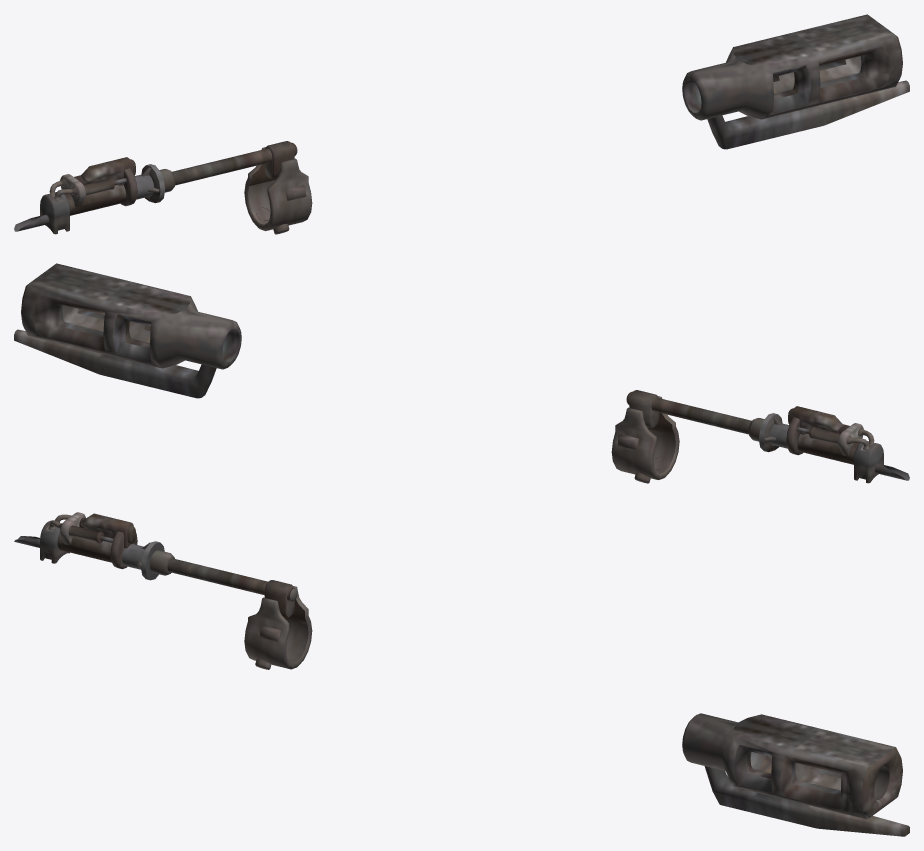
The model's file is HeavyWeapons_Vladof_Barrel_Strack_Acc_3.obj.
3 renders of one model, top to bottom at view 1: azimuth 30°, elevation 25°; view 2: azimuth 150°, elevation 25°; view 3: azimuth 330°, elevation 25°, orthographic.
Visible parts, largest first — view 1: Barrel_Strak_acc_1_break_SK_HW_VLA.045, Barrel_Strak_acc_1_break_melee_SK_HW_VLA.053, Barrel_Strak_acc_1_compensator_chassis_SK_HW_VLA.047, Barrel_Strak_acc_1_compensator_clamp_SK_HW_VLA.048, Barrel_Strak_acc_1_compensator_rod_SK_HW_VLA.054, Barrel_Strak_acc_1_compensator_feeder_SK_HW_VLA.051, Barrel_Strak_acc_1_compensator_rod_end_SK_HW_VLA.050; view 2: Barrel_Strak_acc_1_break_SK_HW_VLA.045, Barrel_Strak_acc_1_break_melee_SK_HW_VLA.053, Barrel_Strak_acc_1_compensator_chassis_SK_HW_VLA.047, Barrel_Strak_acc_1_compensator_clamp_SK_HW_VLA.048, Barrel_Strak_acc_1_compensator_rod_SK_HW_VLA.054, Barrel_Strak_acc_1_compensator_feeder_SK_HW_VLA.051, Barrel_Strak_acc_1_compensator_rod_end_SK_HW_VLA.050; view 3: Barrel_Strak_acc_1_break_SK_HW_VLA.045, Barrel_Strak_acc_1_break_melee_SK_HW_VLA.053, Barrel_Strak_acc_1_compensator_chassis_SK_HW_VLA.047, Barrel_Strak_acc_1_compensator_clamp_SK_HW_VLA.048, Barrel_Strak_acc_1_compensator_rod_SK_HW_VLA.054, Barrel_Strak_acc_1_compensator_feeder_SK_HW_VLA.051, Barrel_Strak_acc_1_compensator_rod_end_SK_HW_VLA.050.
Boxes of the visible parts, x1,y1,x2,y2 form: Barrel_Strak_acc_1_break_SK_HW_VLA.045: [682, 14, 902, 120]; Barrel_Strak_acc_1_break_melee_SK_HW_VLA.053: [707, 80, 909, 149]; Barrel_Strak_acc_1_compensator_chassis_SK_HW_VLA.047: [60, 157, 175, 215]; Barrel_Strak_acc_1_compensator_clamp_SK_HW_VLA.048: [244, 147, 312, 231]; Barrel_Strak_acc_1_compensator_rod_SK_HW_VLA.054: [172, 142, 297, 185]; Barrel_Strak_acc_1_compensator_feeder_SK_HW_VLA.051: [40, 192, 69, 234]; Barrel_Strak_acc_1_compensator_rod_end_SK_HW_VLA.050: [264, 141, 294, 179]; Barrel_Strak_acc_1_break_SK_HW_VLA.045: [21, 263, 241, 369]; Barrel_Strak_acc_1_break_melee_SK_HW_VLA.053: [14, 329, 216, 398]; Barrel_Strak_acc_1_compensator_chassis_SK_HW_VLA.047: [748, 406, 863, 464]; Barrel_Strak_acc_1_compensator_clamp_SK_HW_VLA.048: [611, 396, 679, 479]; Barrel_Strak_acc_1_compensator_rod_SK_HW_VLA.054: [626, 391, 751, 434]; Barrel_Strak_acc_1_compensator_feeder_SK_HW_VLA.051: [854, 441, 883, 483]; Barrel_Strak_acc_1_compensator_rod_end_SK_HW_VLA.050: [629, 390, 659, 428]; Barrel_Strak_acc_1_break_SK_HW_VLA.045: [682, 713, 902, 819]; Barrel_Strak_acc_1_break_melee_SK_HW_VLA.053: [704, 766, 909, 836]; Barrel_Strak_acc_1_compensator_chassis_SK_HW_VLA.047: [57, 512, 174, 580]; Barrel_Strak_acc_1_compensator_clamp_SK_HW_VLA.048: [244, 586, 312, 669]; Barrel_Strak_acc_1_compensator_rod_SK_HW_VLA.054: [167, 558, 297, 601]; Barrel_Strak_acc_1_compensator_feeder_SK_HW_VLA.051: [40, 520, 69, 563]; Barrel_Strak_acc_1_compensator_rod_end_SK_HW_VLA.050: [264, 580, 294, 617].
Bounding box in the file's own units: 137 × 19.57 × 10.73.
